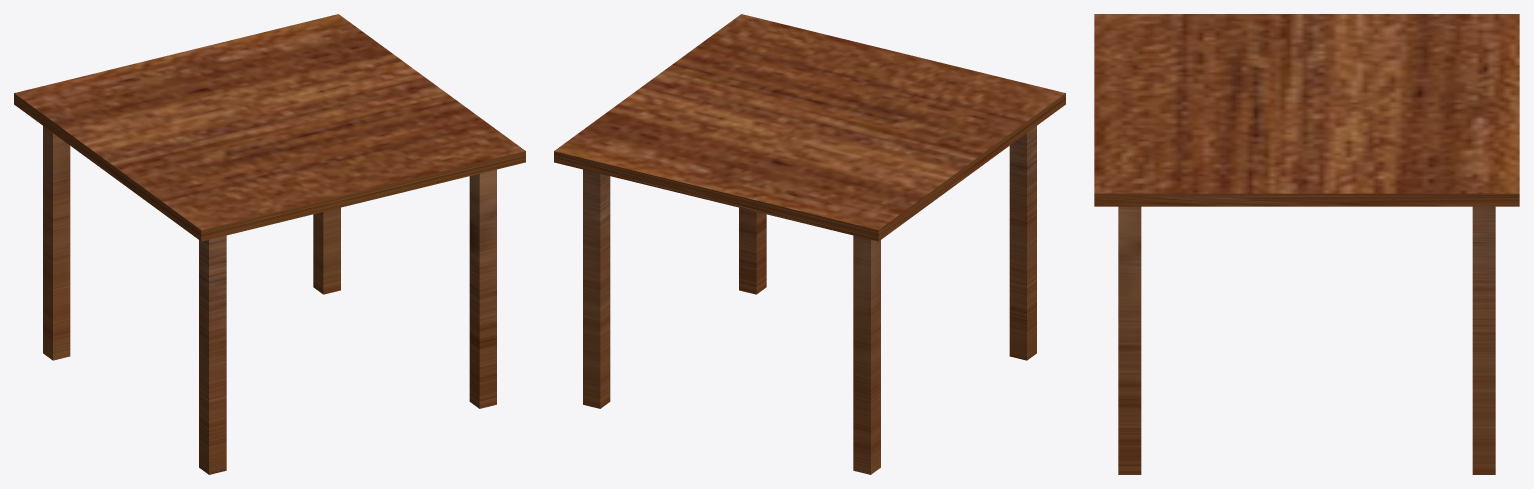
Rendered from sto.glb.
The picture shows the model from 3 angles, left to right: view 1: azimuth 30°, elevation 25°; view 2: azimuth 150°, elevation 25°; view 3: azimuth 270°, elevation 25°; orthographic projection. The views are drawn at different scales.
Parts seen in each view (by area): view 1: Cube; view 2: Cube; view 3: Cube.
Boxes of the visible parts, bbox=[...] form: Cube: bbox=[14, 14, 525, 474]; Cube: bbox=[554, 14, 1065, 474]; Cube: bbox=[1094, 14, 1519, 474].
Size of the model in its own units: 1.2 by 0.9075 by 1.2.
1 material, 1 textured.
